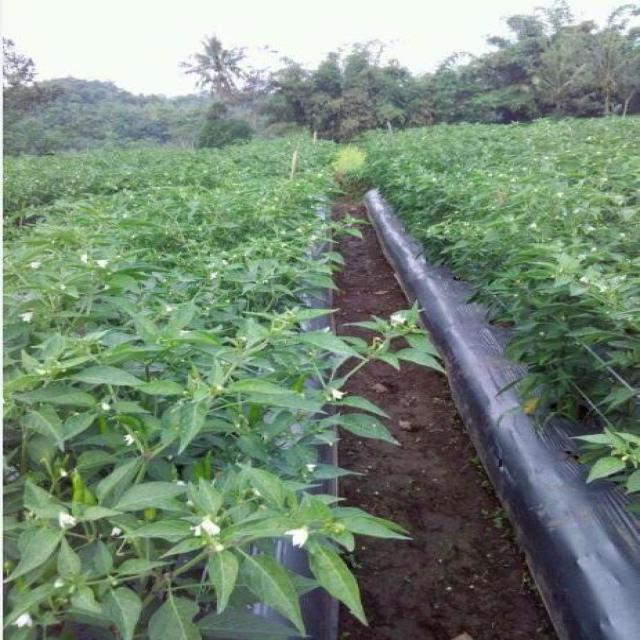row: (337, 148, 586, 640)
